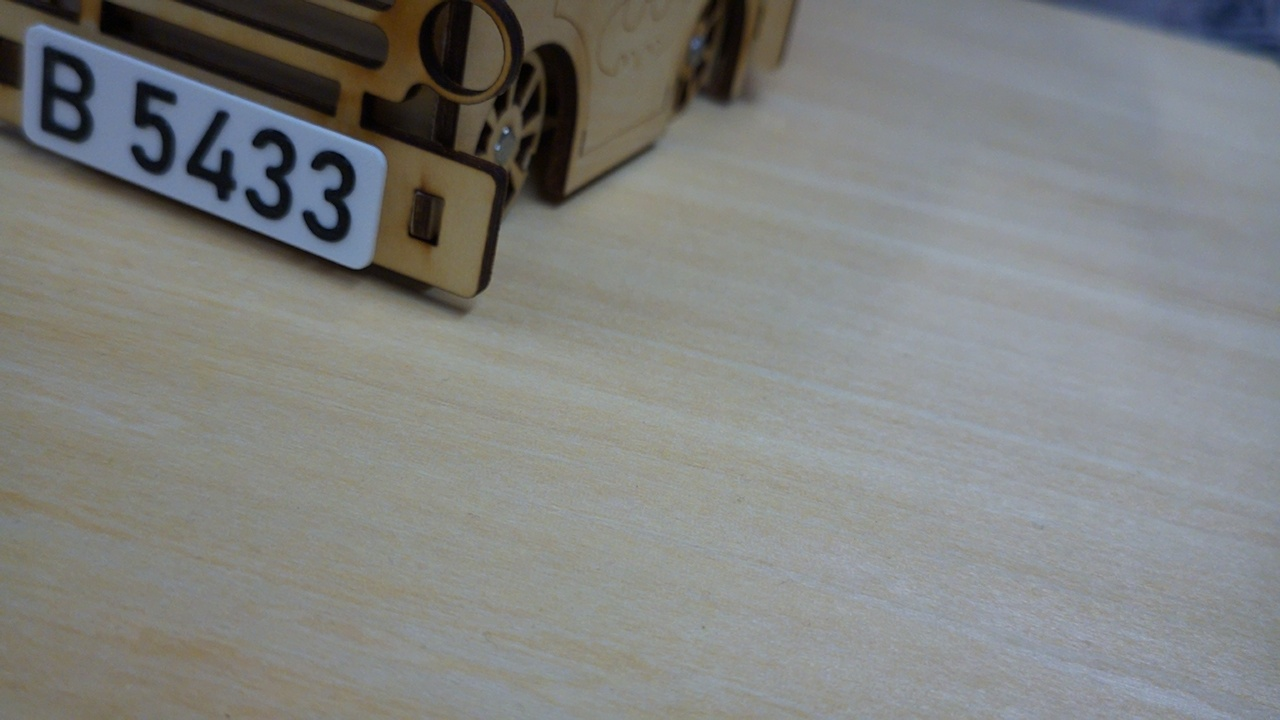license_plate: (21, 22, 390, 273)
